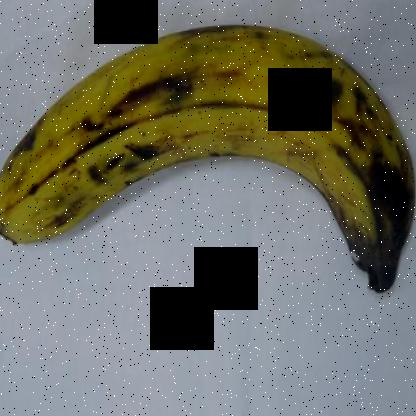overripe: (1, 1, 415, 304)
rotten: (319, 137, 415, 317)
